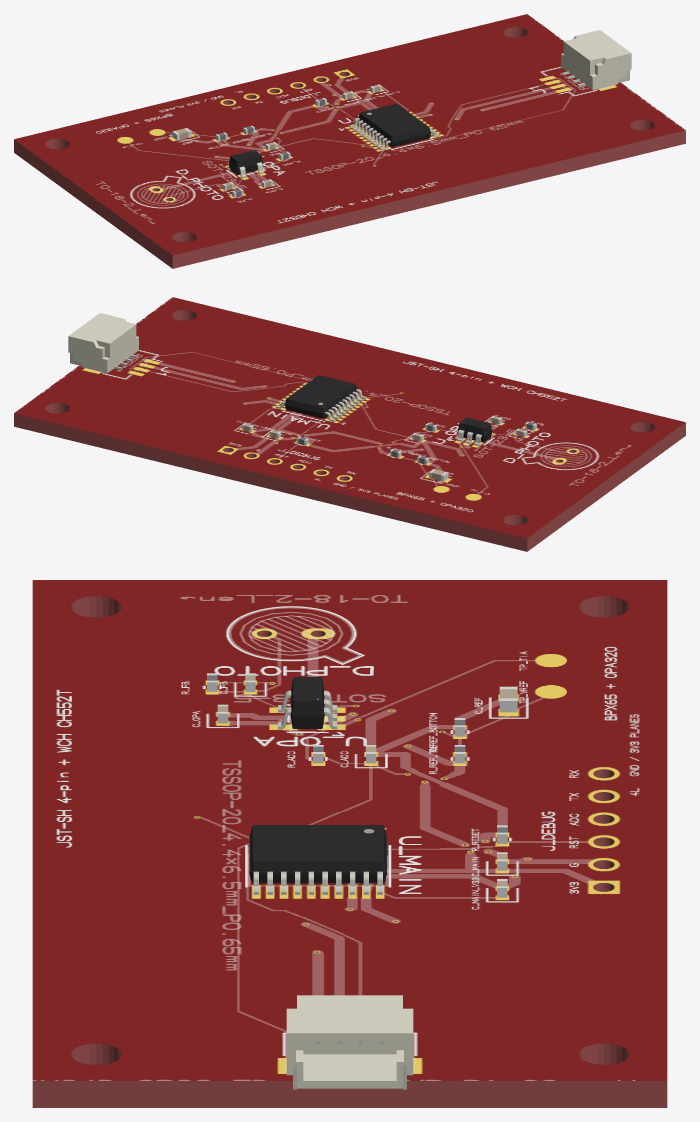
The picture shows the model from 3 angles, top to bottom: view 1: azimuth 30°, elevation 25°; view 2: azimuth 150°, elevation 25°; view 3: azimuth 270°, elevation 25°; orthographic projection. The views are drawn at different scales.
Visible parts, largest first — view 1: Box0, J1, U_MAIN, U_OPA; view 2: Box0, J1, U_MAIN, U_OPA; view 3: Box0, J1, U_MAIN, U_OPA.
Part boxes in pixels (box(x1,y1,x2,y2)): Box0: box(14, 14, 685, 268); J1: box(561, 30, 631, 90); U_MAIN: box(349, 103, 439, 150); U_OPA: box(227, 150, 264, 178); Box0: box(14, 297, 685, 551); J1: box(68, 313, 138, 373); U_MAIN: box(275, 375, 366, 421); U_OPA: box(456, 417, 493, 445); Box0: box(32, 580, 667, 1107); J1: box(286, 995, 413, 1089); U_MAIN: box(249, 825, 386, 894); U_OPA: box(278, 677, 337, 729).
Bounding box in the file's own units: 57 × 4.36 × 30.
10 materials, 2 textured.
